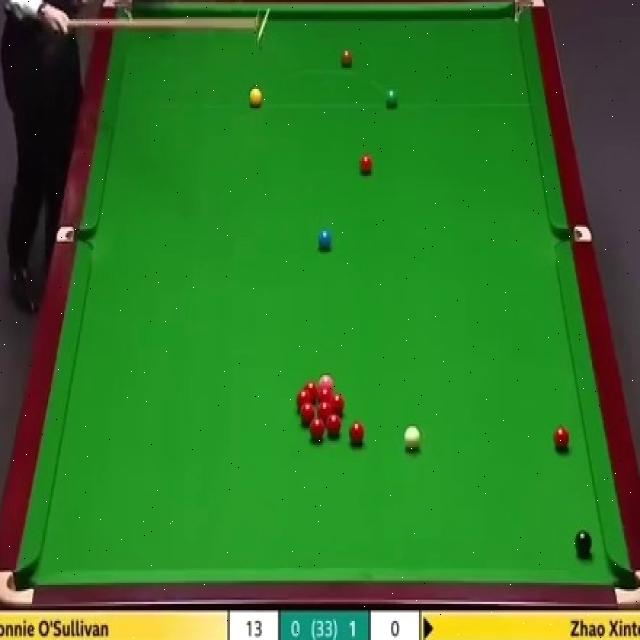black-ball: (574, 528, 592, 555)
blue-ball: (317, 227, 332, 252)
brown-ball: (341, 50, 354, 70)
green-ball: (384, 88, 400, 110)
pink-ball: (318, 374, 334, 386)
red-ball: (486, 518, 502, 543), (324, 412, 340, 437), (358, 154, 374, 176), (349, 423, 364, 446), (554, 426, 569, 449), (310, 412, 324, 435), (330, 394, 345, 414), (304, 379, 318, 400), (300, 405, 316, 423), (296, 390, 310, 410), (318, 401, 332, 416), (319, 385, 331, 402)
white-ball: (426, 454, 444, 482)
yellow-ball: (249, 86, 262, 108)
